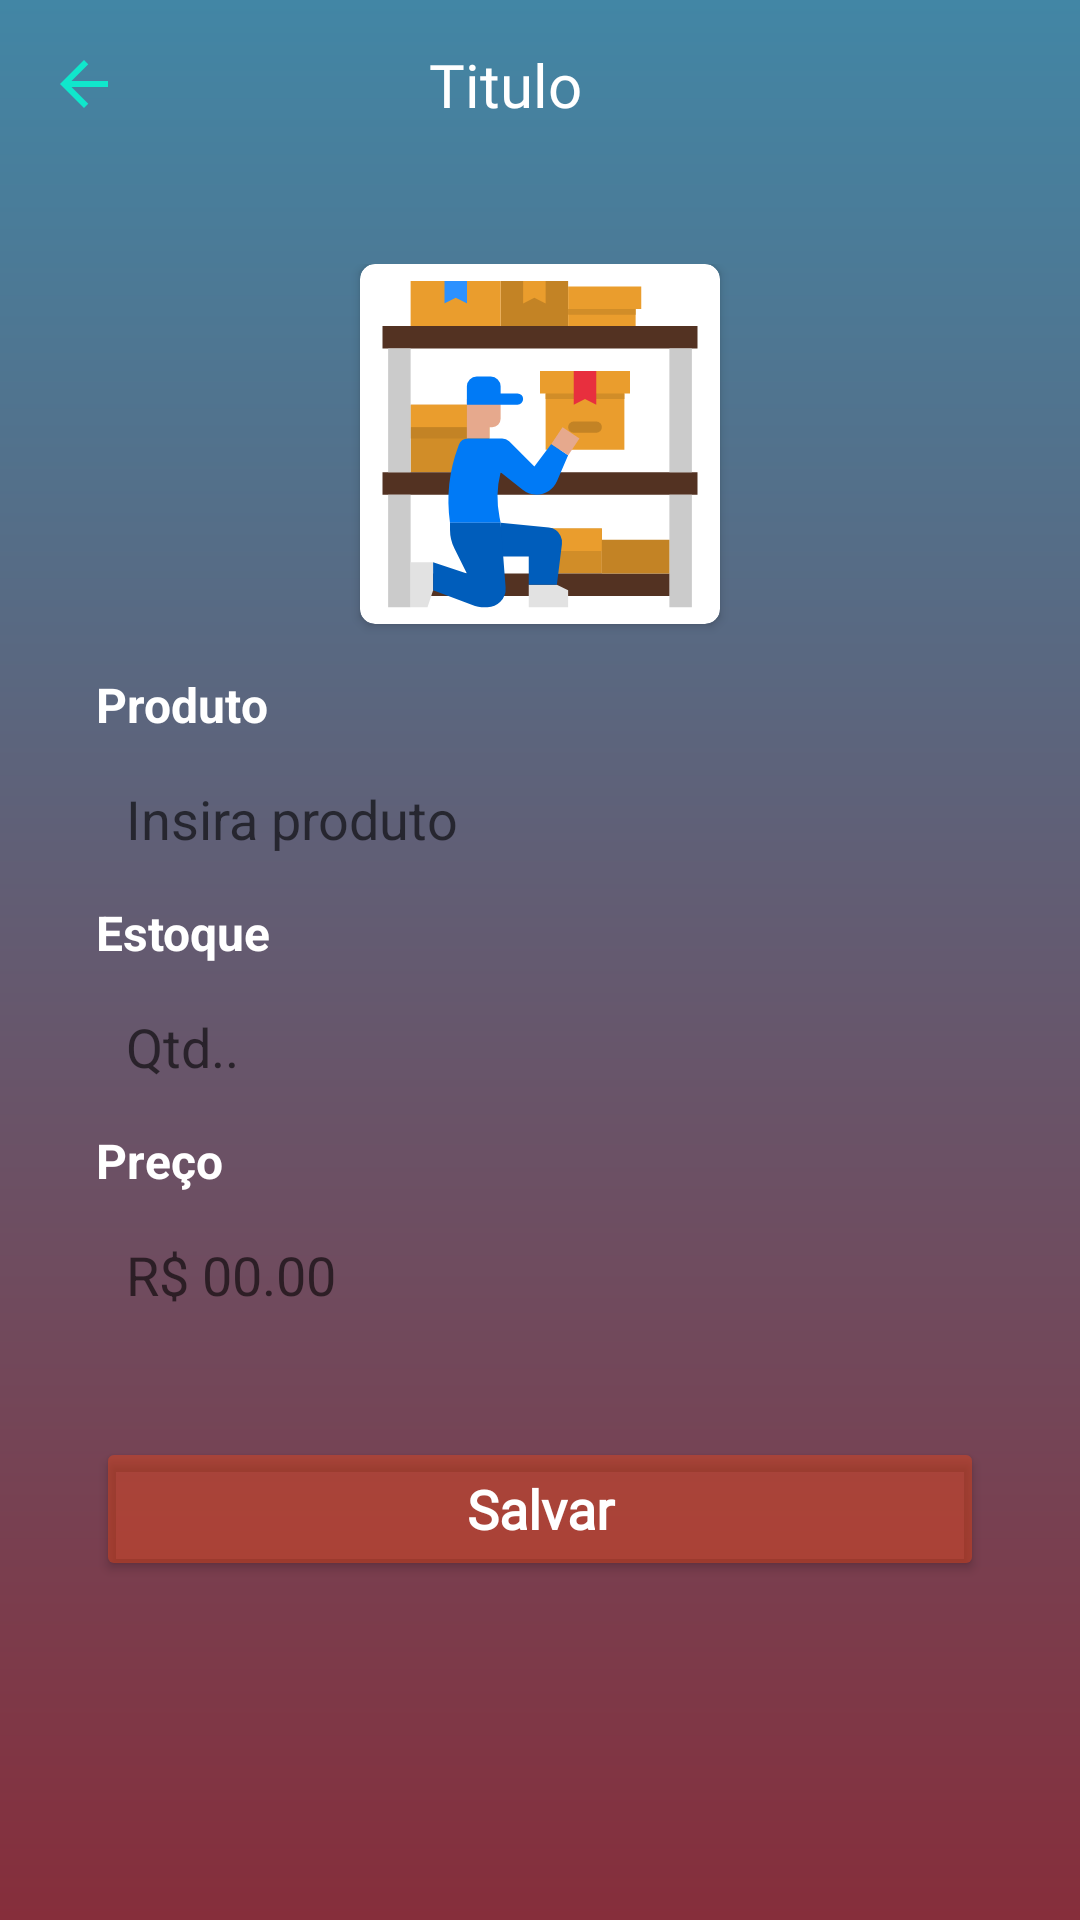

Icon click points for this 1080w x 1920h phone screenshot, format (x,y):
stock: (540,444)
voltar: (84,84)
